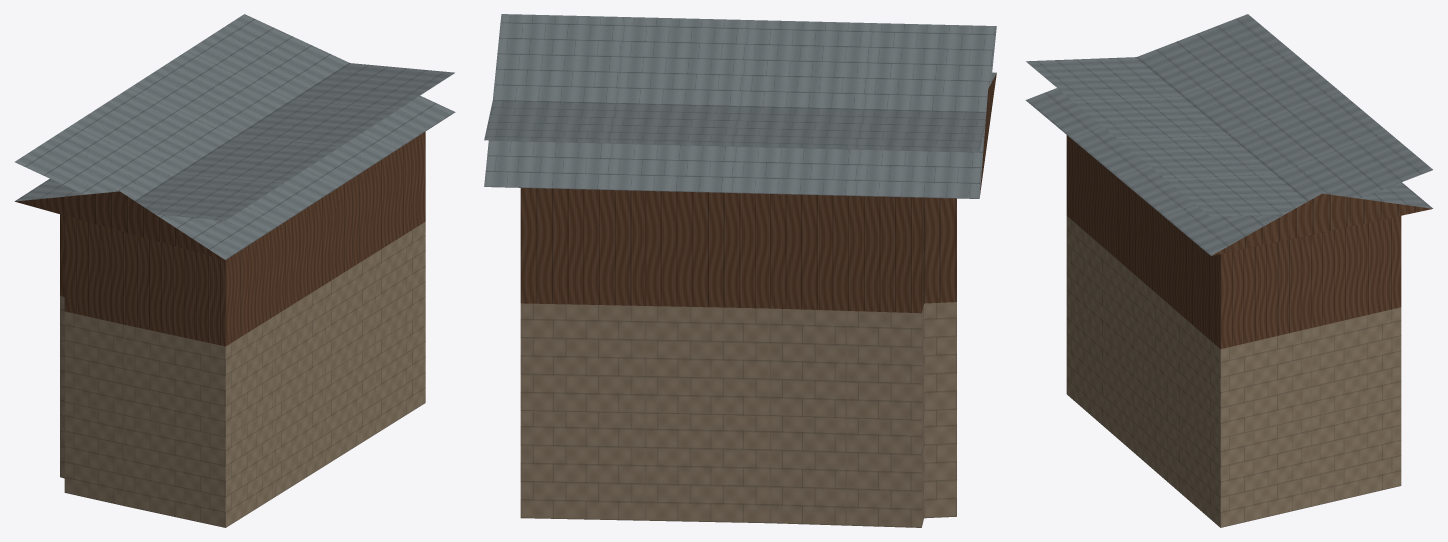
The model's file is bld_c21_45_384.gltf.
The picture shows the model from 3 angles, left to right: view 1: azimuth 30°, elevation 25°; view 2: azimuth 150°, elevation 25°; view 3: azimuth 270°, elevation 25°; orthographic projection. The views are drawn at different scales.
Parts seen in each view (by area): view 1: bld_c21_45_384; view 2: bld_c21_45_384; view 3: bld_c21_45_384.
Part boxes in pixels (x1,y1,x2,y2): bld_c21_45_384: [14, 14, 455, 527]; bld_c21_45_384: [484, 14, 996, 527]; bld_c21_45_384: [1025, 14, 1432, 527].
Size of the model in its own units: 11.2 by 8.3 by 9.51.
Materials: 4 (4 with a texture image).
